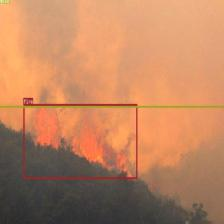fire: (23, 104, 137, 178)
smoke: (0, 0, 224, 107)
